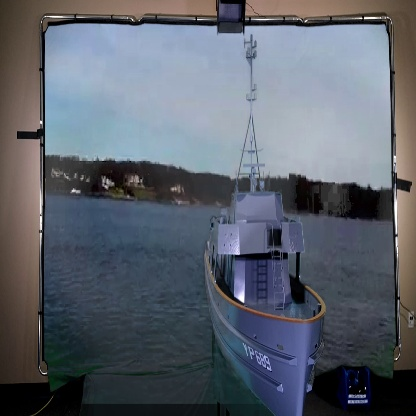YP689: (201, 35, 328, 416)
